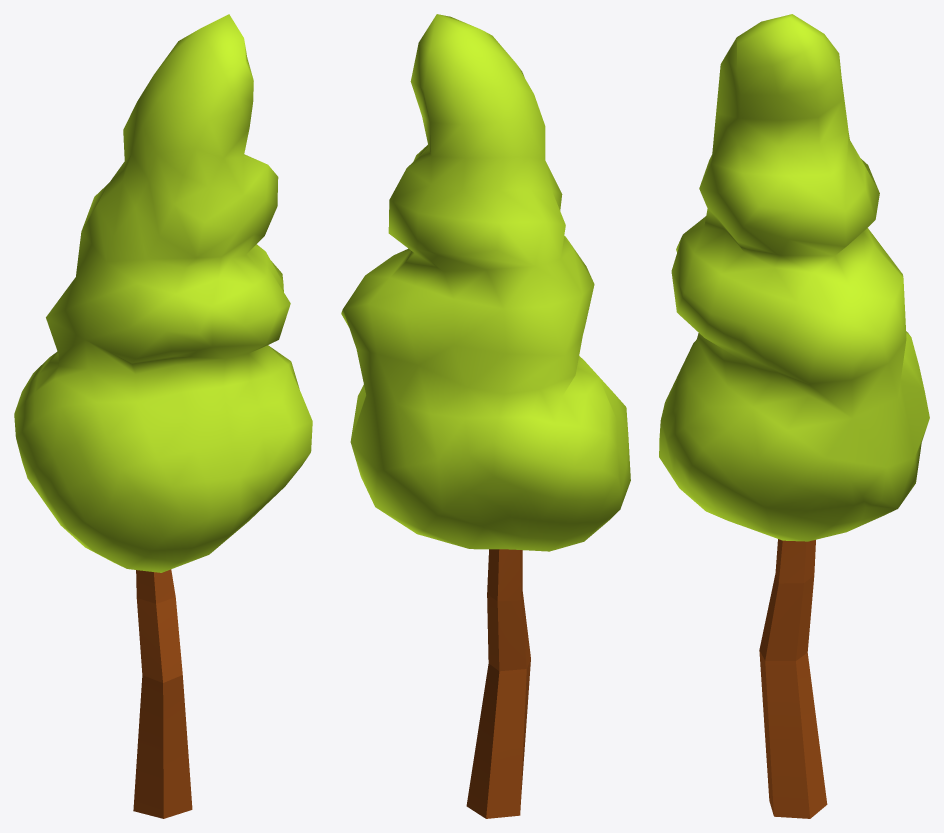
File: Tree_21_Spring.fbx
The picture shows the model from 3 angles, left to right: view 1: azimuth 30°, elevation 25°; view 2: azimuth 150°, elevation 25°; view 3: azimuth 270°, elevation 25°; orthographic projection. The views are drawn at different scales.
Parts seen in each view (by area): view 1: Tree_21_p2_Spring, Tree_21_p1_Spring; view 2: Tree_21_p2_Spring, Tree_21_p1_Spring; view 3: Tree_21_p2_Spring, Tree_21_p1_Spring.
Boxes of the visible parts, box(x1,y1,x2,y2) form: Tree_21_p2_Spring: box(14, 14, 312, 572); Tree_21_p1_Spring: box(133, 569, 192, 818); Tree_21_p2_Spring: box(341, 14, 630, 551); Tree_21_p1_Spring: box(466, 549, 530, 818); Tree_21_p2_Spring: box(659, 14, 929, 541); Tree_21_p1_Spring: box(759, 539, 827, 818).
Bounding box in the file's own units: 207 × 603 × 180.
